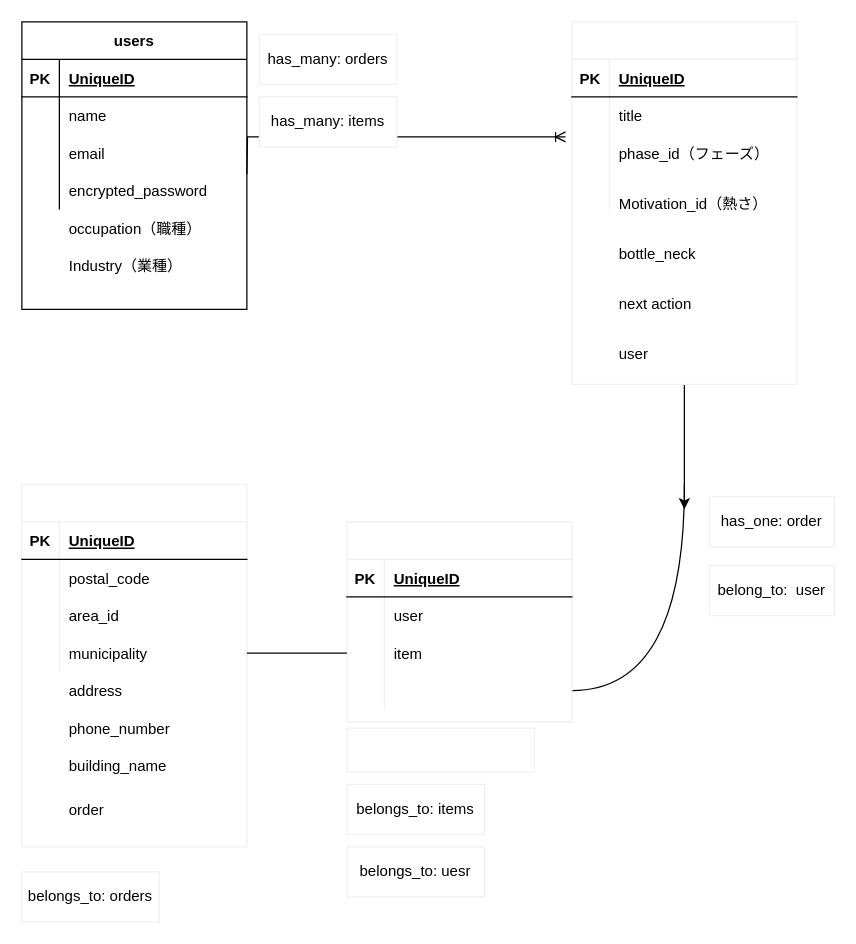
Image size: 856x944. Some labels were removed from this diagram. Each missing label, with the box of its shape:
has_one: recidence: (346, 727, 534, 772)
Opportunity（商談情報）: (571, 21, 797, 384)
orders（購入記録）: (346, 521, 572, 722)
recidences（発送先住所）: (21, 483, 247, 847)
